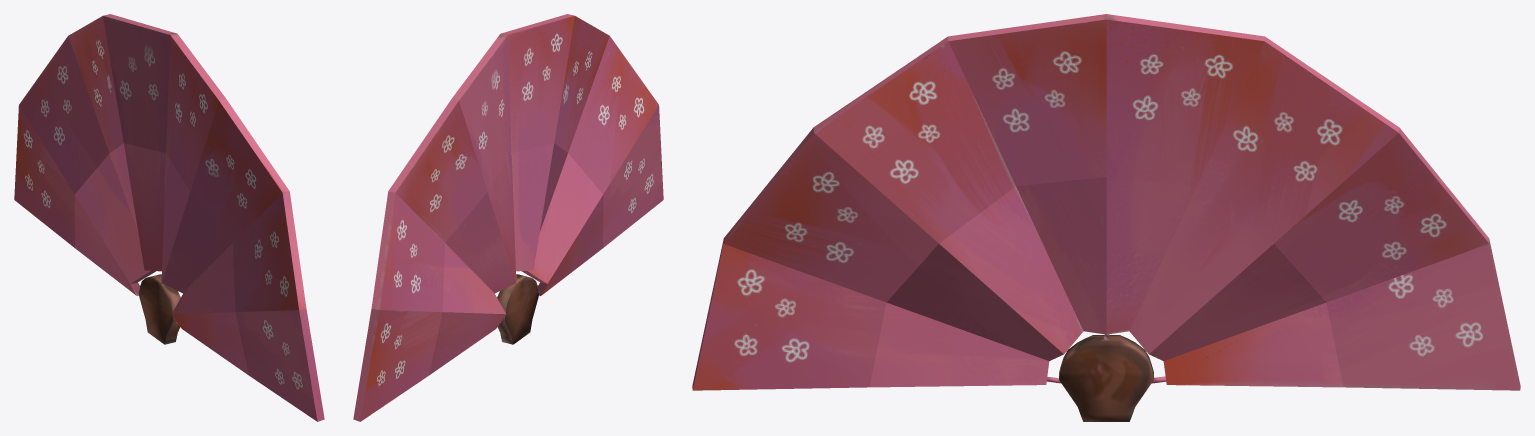
The model's file is HandFan.fbx.
The picture shows the model from 3 angles, left to right: view 1: azimuth 30°, elevation 25°; view 2: azimuth 150°, elevation 25°; view 3: azimuth 270°, elevation 25°; orthographic projection. The views are drawn at different scales.
Visible parts, largest first — view 1: Cube; view 2: Cube; view 3: Cube.
Part boxes in pixels (x1,y1,x2,y2): Cube: [14, 14, 324, 421]; Cube: [353, 14, 663, 421]; Cube: [692, 14, 1520, 421].
Bounding box in the file's own units: 19.33 × 175 × 321.
